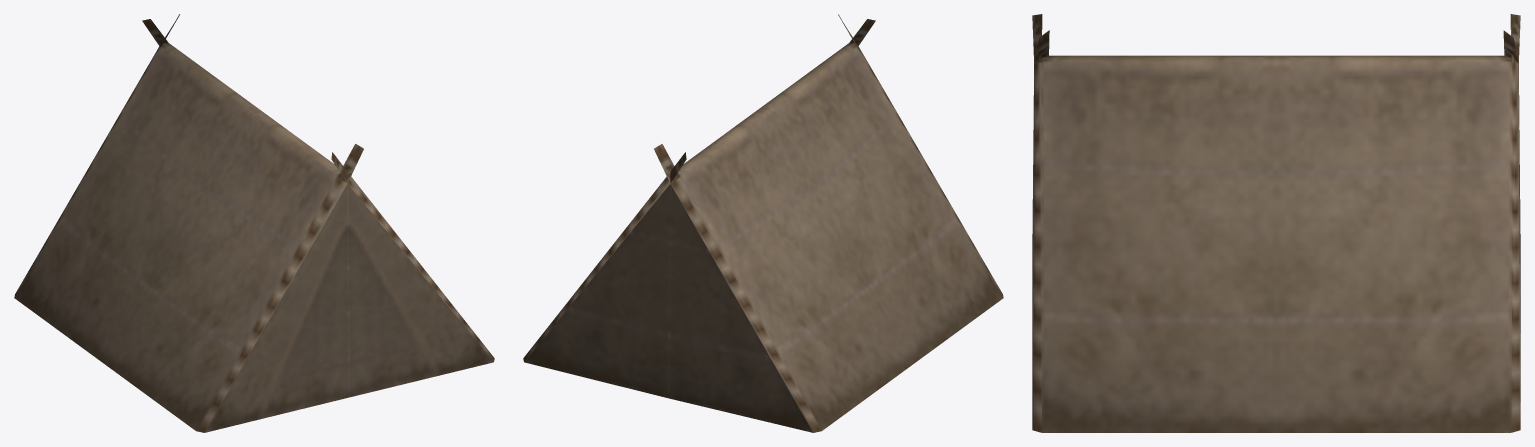
The model's file is b_hn_zhangpeng03_lod2.FBX.
3 renders of one model, left to right at view 1: azimuth 30°, elevation 25°; view 2: azimuth 150°, elevation 25°; view 3: azimuth 270°, elevation 25°, orthographic. The views are drawn at different scales.
Parts seen in each view (by area): view 1: b_hn_zhangpeng03_lod2; view 2: b_hn_zhangpeng03_lod2; view 3: b_hn_zhangpeng03_lod2.
Part boxes in pixels (x1,y1,x2,y2): b_hn_zhangpeng03_lod2: (14, 14, 494, 432); b_hn_zhangpeng03_lod2: (523, 14, 1003, 432); b_hn_zhangpeng03_lod2: (1032, 14, 1520, 432).
Size of the model in its own units: 6.23 by 4.92 by 6.85.
